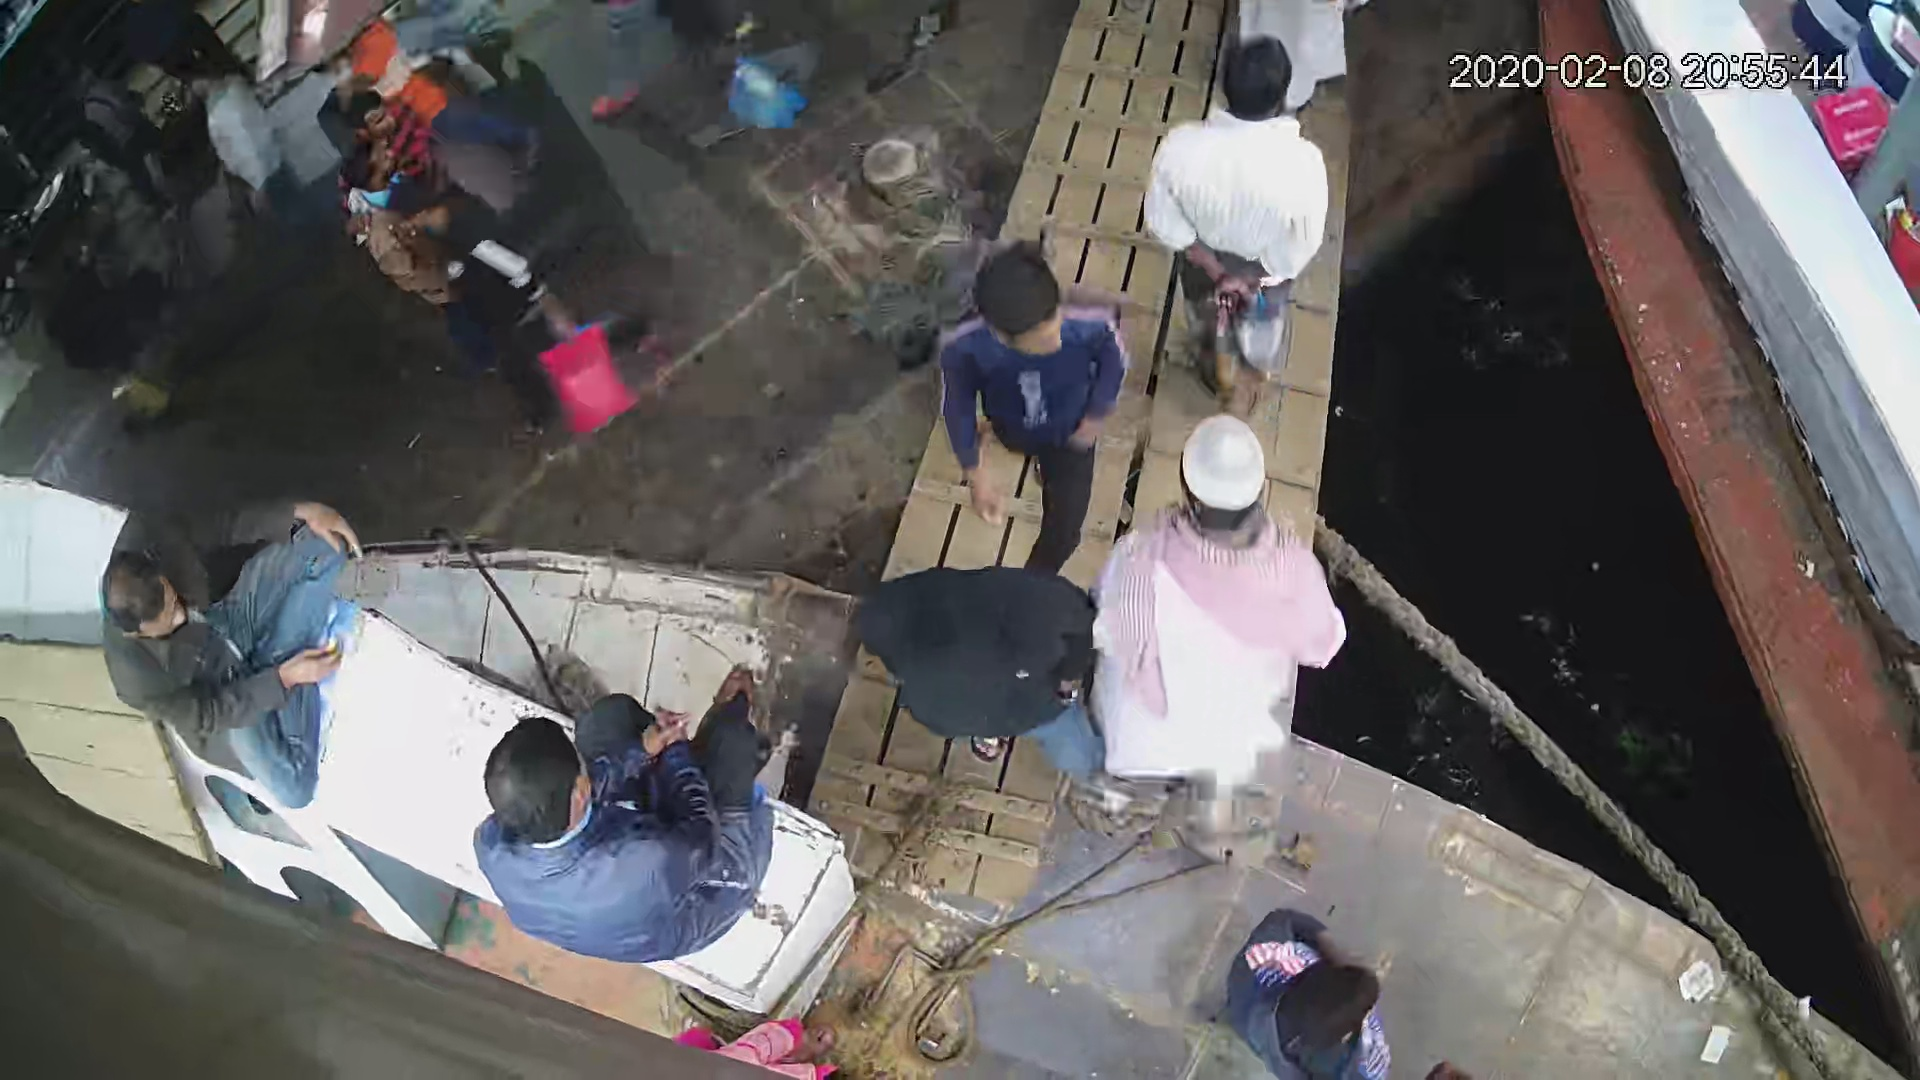person: (1091, 427, 1354, 816), (466, 675, 775, 966), (97, 492, 351, 816), (1145, 34, 1334, 410), (392, 186, 656, 444), (852, 553, 1108, 818), (926, 240, 1126, 564), (1210, 895, 1395, 1080)
